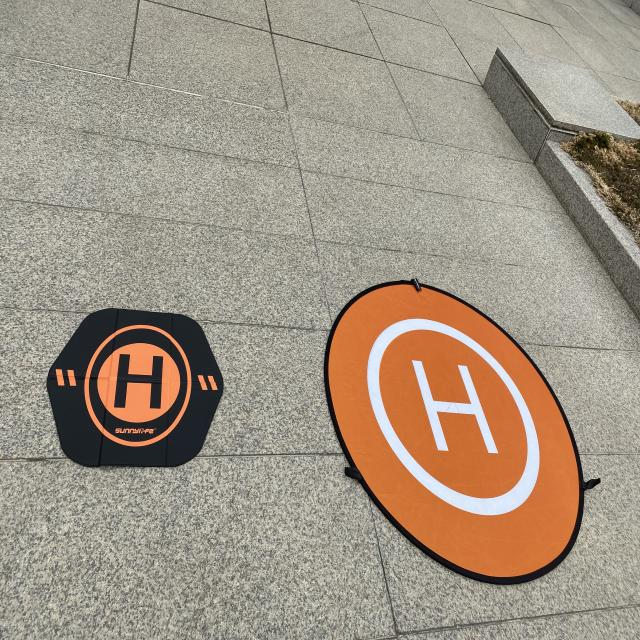helipad: (366, 316, 541, 517), (83, 322, 193, 449)
